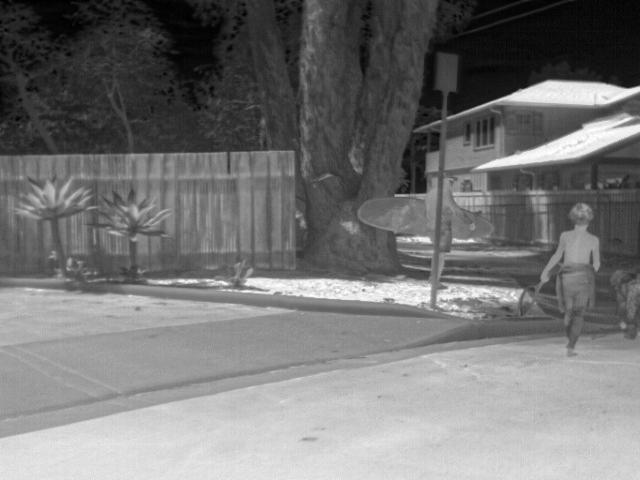dog: (604, 270, 640, 340)
person: (539, 200, 600, 356), (436, 172, 454, 290)
